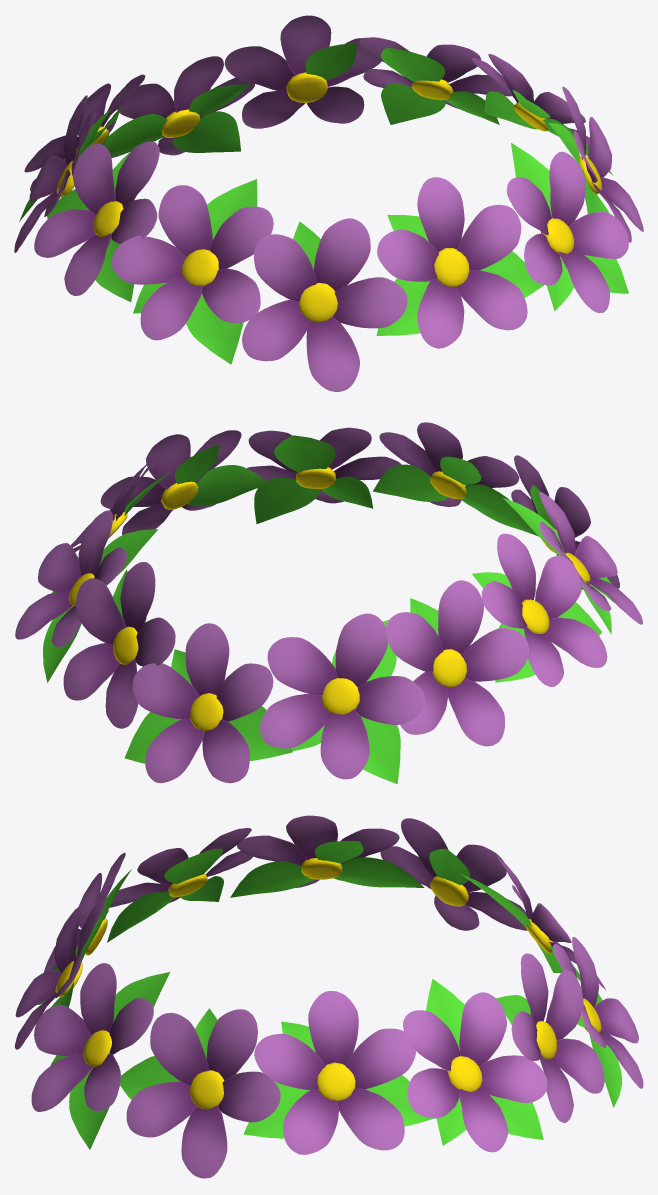
File: Flower Crownsa A.fbx
The picture shows the model from 3 angles, top to bottom: view 1: azimuth 30°, elevation 25°; view 2: azimuth 150°, elevation 25°; view 3: azimuth 270°, elevation 25°; orthographic projection. The views are drawn at different scales.
Visible parts, largest first — view 1: Flower Crownsa A; view 2: Flower Crownsa A; view 3: Flower Crownsa A.
Part boxes in pixels (x1,y1,x2,y2): Flower Crownsa A: (14, 15, 643, 391); Flower Crownsa A: (15, 422, 642, 784); Flower Crownsa A: (15, 815, 643, 1178).
Size of the model in its own units: 63.02 by 20.18 by 63.32.
